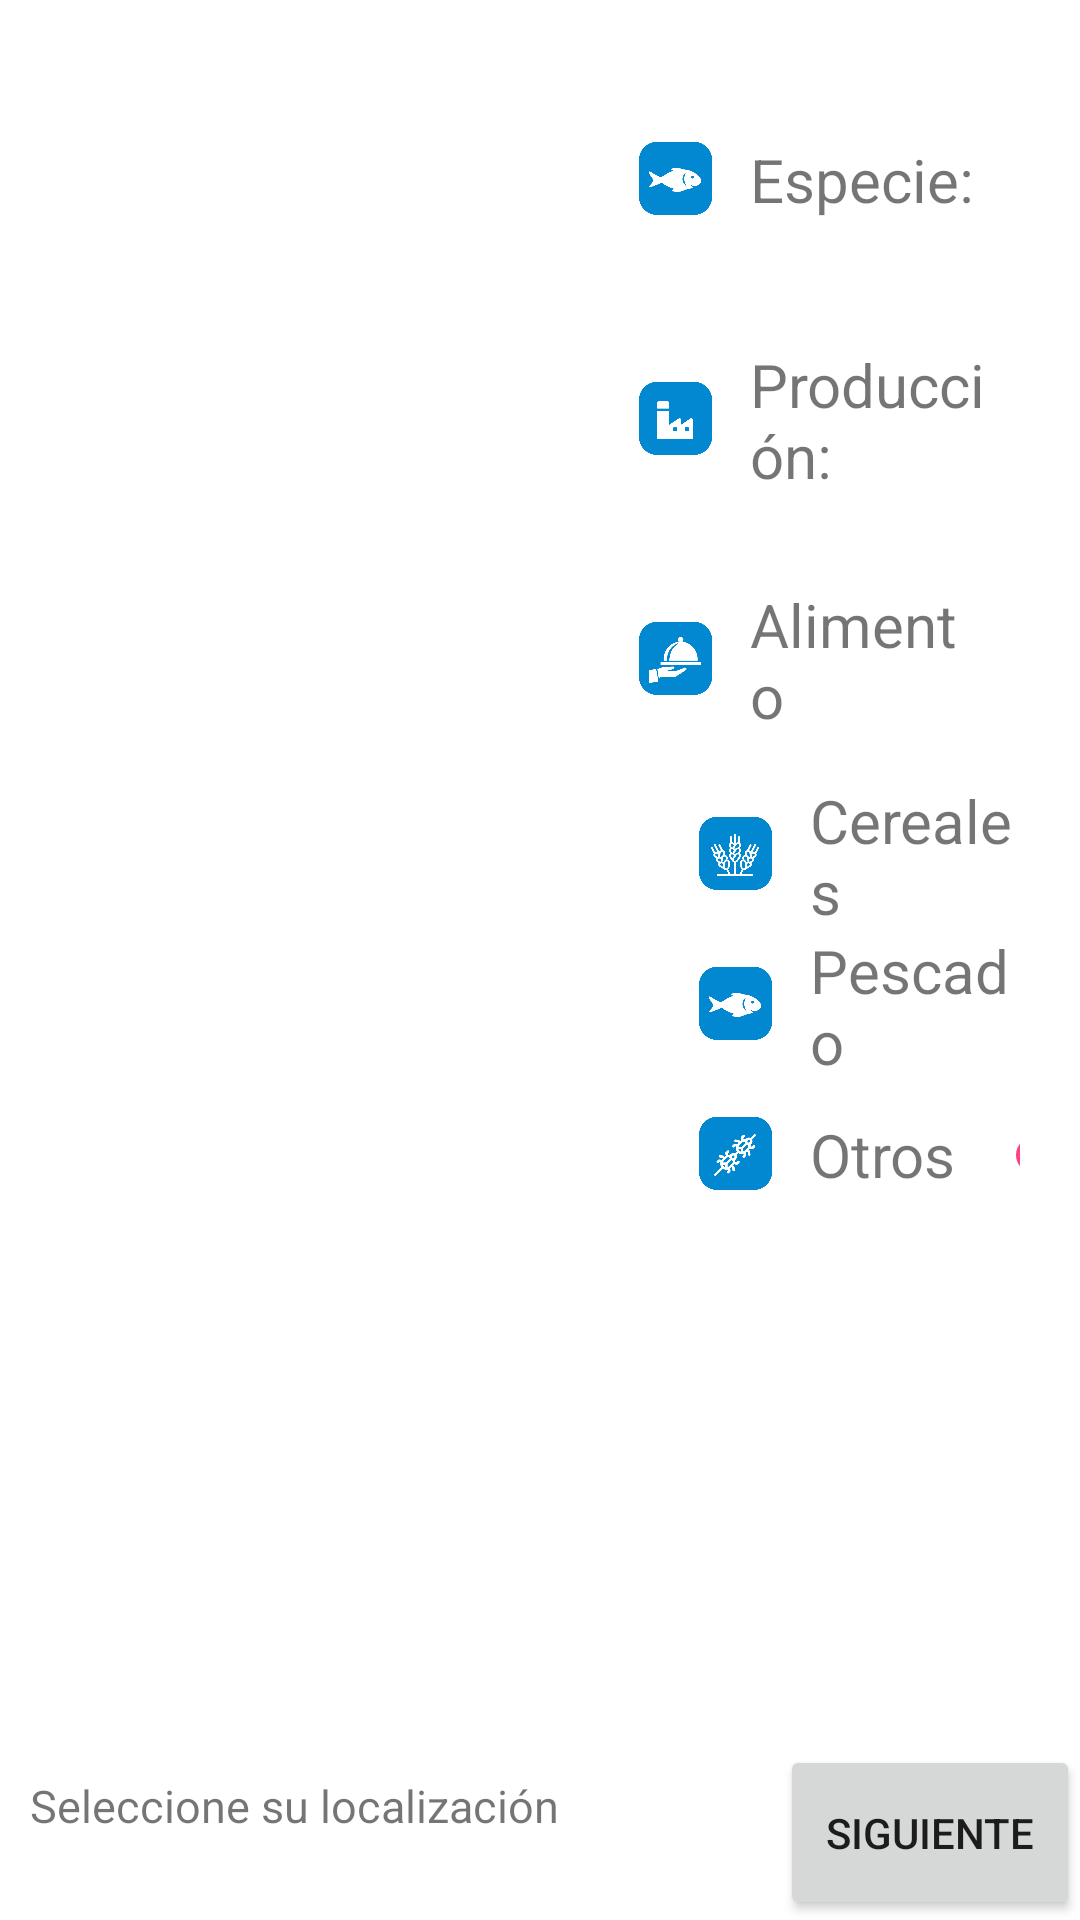

Screen size 1080x1920. Icon name, then its center in pixels as (x=x, y=y):
fishico: (x=675, y=178), (x=735, y=1003)
foodico: (x=675, y=658)
producico: (x=675, y=418)
trigoico: (x=735, y=853)
